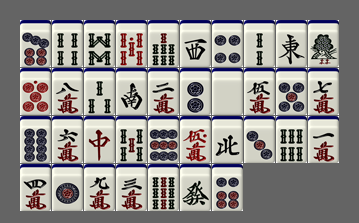0m: (180, 116, 211, 163)
0p: (20, 68, 51, 115)
0s: (116, 20, 147, 67)
1m: (308, 116, 339, 163)
1p: (52, 164, 83, 211)
1s: (308, 20, 339, 67)
1z: (276, 20, 307, 67)
2m: (148, 68, 179, 115)
2p: (180, 68, 211, 115)
2s: (244, 20, 275, 67)
2z: (116, 68, 147, 115)
3m: (116, 164, 147, 211)
3p: (244, 116, 275, 163)
3s: (84, 68, 115, 115)
3z: (180, 20, 211, 67)
4m: (20, 164, 51, 211)
4p: (212, 20, 243, 67)
4s: (52, 20, 83, 67)
4z: (212, 116, 243, 163)
5m: (244, 68, 275, 115)
5p: (276, 68, 307, 115)
5s: (116, 116, 147, 163)
5z: (212, 68, 243, 115)
6m: (52, 116, 83, 163)
6p: (212, 164, 243, 211)
6s: (276, 116, 307, 163)
6z: (180, 164, 211, 211)
7m: (308, 68, 339, 115)
7p: (20, 20, 51, 67)
7s: (148, 20, 179, 67)
7z: (84, 116, 115, 163)
8m: (52, 68, 83, 115)
8p: (20, 116, 51, 163)
8s: (84, 20, 115, 67)
9m: (84, 164, 115, 211)
9p: (148, 116, 179, 163)
9s: (148, 164, 179, 211)
